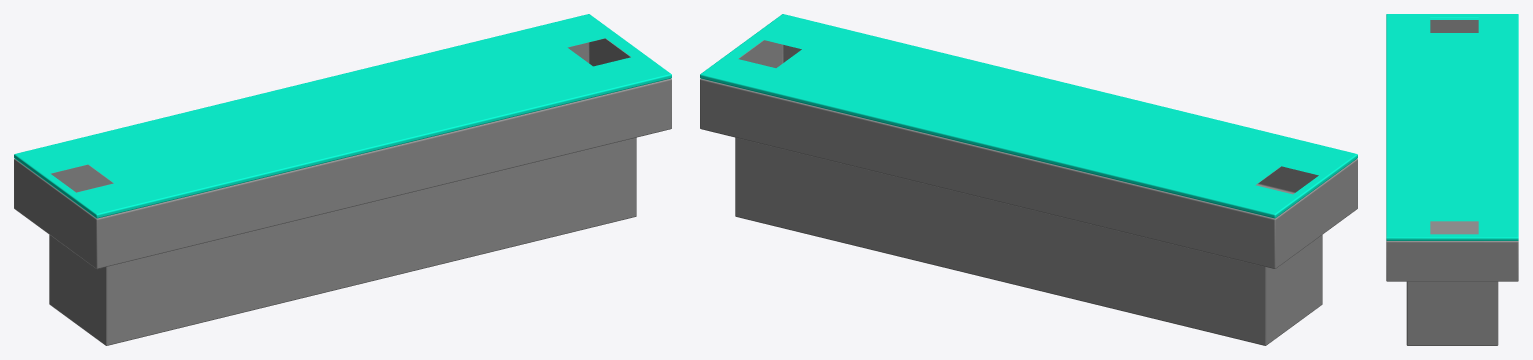
File: Table Long.fbx
3 views of the same model, side by side, from view 1: azimuth 30°, elevation 25°; view 2: azimuth 150°, elevation 25°; view 3: azimuth 270°, elevation 25° (orthographic). The views are drawn at different scales.
Parts seen in each view (by area): view 1: Table Long; view 2: Table Long; view 3: Table Long.
Part boxes in pixels (x1,y1,x2,y2): Table Long: [14, 14, 671, 345]; Table Long: [700, 14, 1357, 345]; Table Long: [1386, 14, 1518, 345].
Bounding box in the file's own units: 474 × 116 × 118.
